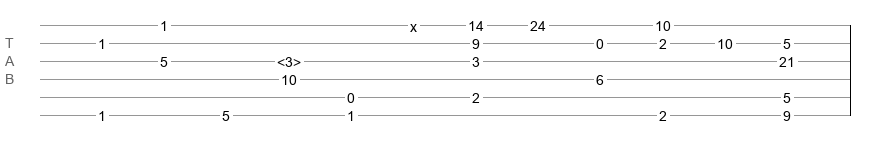0: (347, 90, 355, 100), (596, 36, 604, 46)
1: (98, 108, 106, 118), (98, 36, 106, 46), (160, 18, 168, 28), (347, 108, 355, 118)
10: (281, 72, 297, 82), (655, 18, 671, 28), (717, 36, 733, 46)
14: (468, 18, 484, 28)
2: (472, 90, 480, 100), (659, 36, 667, 46), (659, 108, 667, 118)
21: (779, 54, 795, 64)
24: (530, 18, 546, 28)
3: (472, 54, 480, 64)
5: (160, 54, 168, 64), (222, 108, 230, 118), (783, 90, 791, 100), (783, 36, 791, 46)
6: (596, 72, 604, 82)
9: (472, 36, 480, 46), (783, 108, 791, 118)
harmonic: (277, 54, 301, 64)
x: (410, 19, 417, 27)
